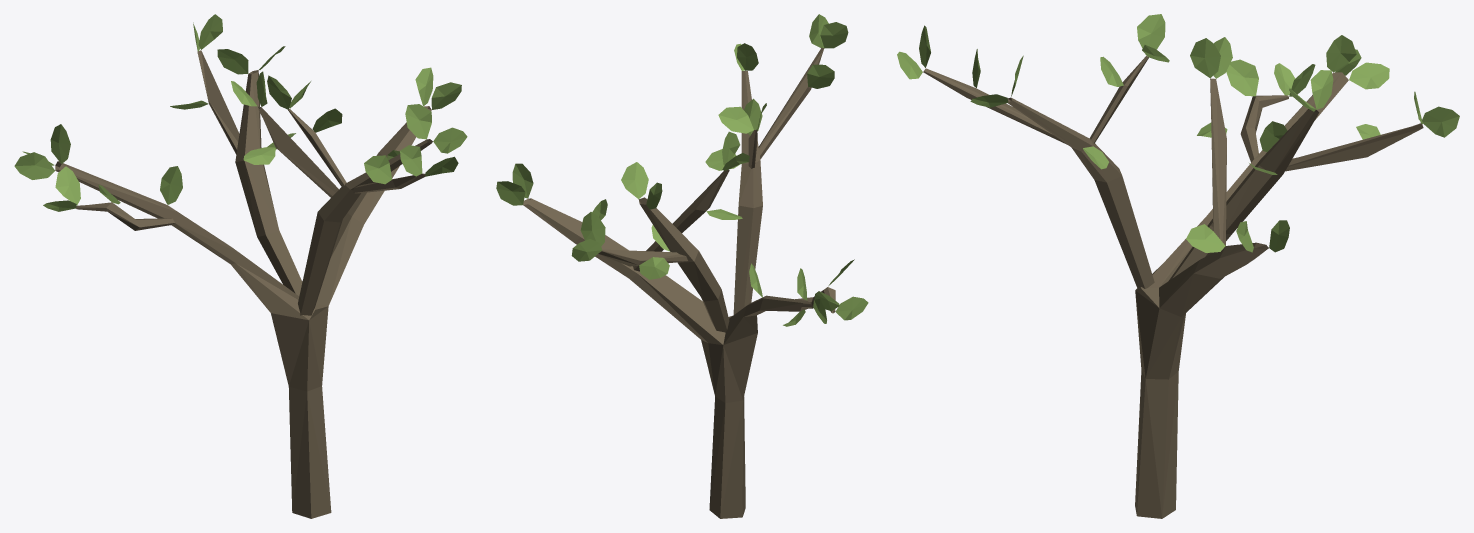
File: Cherry_3.5_3.fbx
The picture shows the model from 3 angles, left to right: view 1: azimuth 30°, elevation 25°; view 2: azimuth 150°, elevation 25°; view 3: azimuth 270°, elevation 25°; orthographic projection. The views are drawn at different scales.
Visible parts, largest first — view 1: Cherry_3_5_3; view 2: Cherry_3_5_3; view 3: Cherry_3_5_3.
Boxes of the visible parts, x1,y1,x2,y2 form: Cherry_3_5_3: (14,14,467,518); Cherry_3_5_3: (496,14,868,518); Cherry_3_5_3: (897,14,1459,518).
Size of the model in its own units: 282 by 303 by 323.
